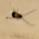cockroach: (11, 11, 23, 20)
